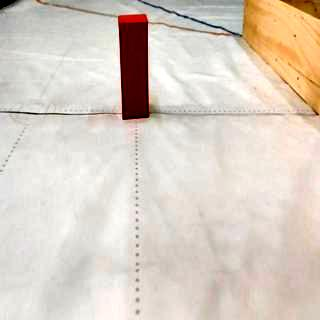redbox: (118, 13, 148, 119)
